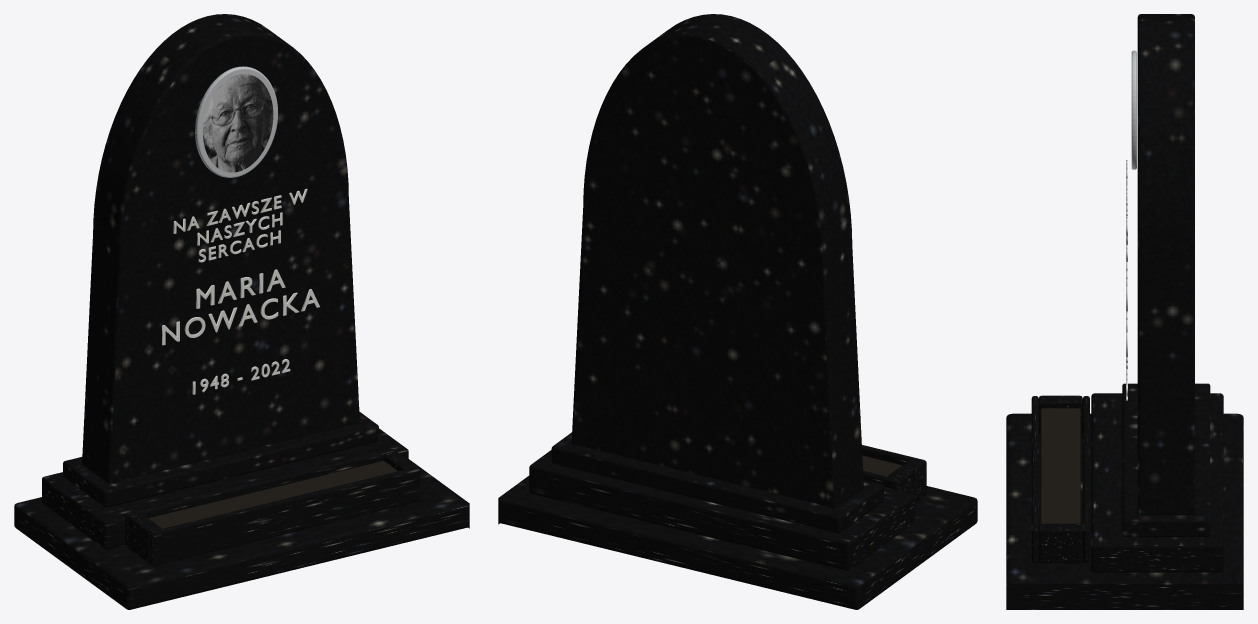
The model's file is classic-monument.glb.
3 views of the same model, side by side, from view 1: azimuth 30°, elevation 25°; view 2: azimuth 150°, elevation 25°; view 3: azimuth 270°, elevation 25° (orthographic). The views are drawn at different scales.
Visible parts, largest first — view 1: Plyta_klasyczna_lukowa.001, Plyta_pozioma, Donica_wbudowana_przod, Cokol_pod_plyta, Stopien_pod_tablica, Medalion_zdjecie, Ziemia_w_donicy, Donica_wbudowana_tyl, Imie_i_nazwisko, Medalion_ramijka, Napis_pamieci, Napis_pamieci.001 (+2 smaller); view 2: Plyta_klasyczna_lukowa.001, Plyta_pozioma, Stopien_pod_tablica, Cokol_pod_plyta, Donica_wbudowana_lewy_bok, Donica_wbudowana_przod; view 3: Plyta_klasyczna_lukowa.001, Plyta_pozioma, Stopien_pod_tablica, Cokol_pod_plyta, Ziemia_w_donicy, Donica_wbudowana_prawy_bok, Donica_wbudowana_przod, Donica_wbudowana_tyl, Donica_wbudowana_lewy_bok, Medalion_ramijka.
Part boxes in pixels (x1,y1,x2,y2): Plyta_klasyczna_lukowa.001: [82, 14, 359, 483]; Plyta_pozioma: [14, 459, 469, 609]; Donica_wbudowana_przod: [150, 467, 420, 565]; Cokol_pod_plyta: [63, 411, 378, 507]; Stopien_pod_tablica: [42, 428, 408, 549]; Medalion_zdjecie: [202, 74, 273, 172]; Ziemia_w_donicy: [148, 461, 397, 528]; Donica_wbudowana_tyl: [125, 449, 394, 547]; Imie_i_nazwisko: [162, 269, 319, 345]; Medalion_ramijka: [195, 66, 277, 177]; Napis_pamieci: [173, 188, 307, 262]; Napis_pamieci.001: [173, 190, 307, 262]; Plyta_klasyczna_lukowa.001: [571, 14, 863, 507]; Plyta_pozioma: [498, 475, 977, 609]; Stopien_pod_tablica: [529, 450, 915, 570]; Cokol_pod_plyta: [551, 432, 883, 533]; Donica_wbudowana_lewy_bok: [888, 460, 922, 502]; Donica_wbudowana_przod: [862, 445, 926, 496]; Plyta_klasyczna_lukowa.001: [1137, 14, 1194, 514]; Plyta_pozioma: [1006, 413, 1243, 609]; Stopien_pod_tablica: [1091, 393, 1223, 572]; Cokol_pod_plyta: [1122, 383, 1210, 537]; Ziemia_w_donicy: [1040, 408, 1080, 523]; Donica_wbudowana_prawy_bok: [1039, 523, 1082, 563]; Donica_wbudowana_przod: [1031, 396, 1038, 563]; Donica_wbudowana_tyl: [1082, 396, 1089, 563]; Donica_wbudowana_lewy_bok: [1039, 395, 1082, 435]; Medalion_ramijka: [1131, 50, 1136, 169].
Size of the model in its own units: 0.92 by 1.26 by 0.5384.
7 materials, 3 textured.
